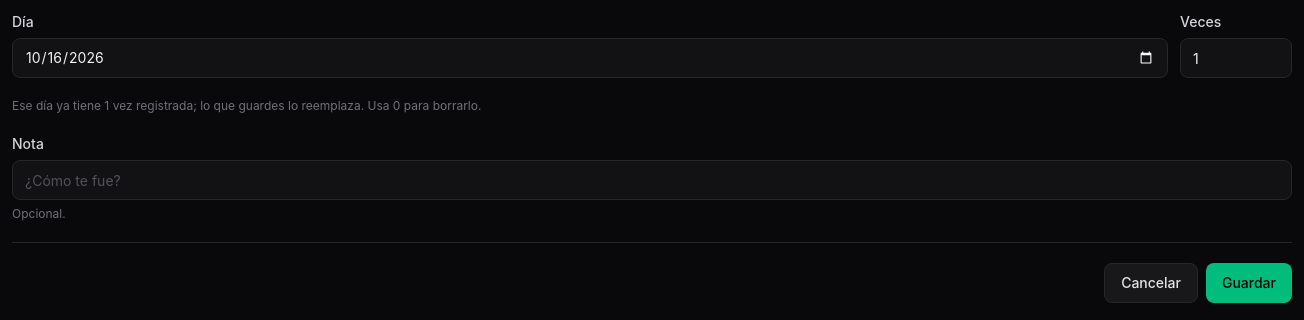
Scenario: LogForm › al elegir otro día precarga su cantidad y nota
Type "2026-10-14" into the date field labelled "Día" at (590, 58), box [12, 38, 1168, 78]
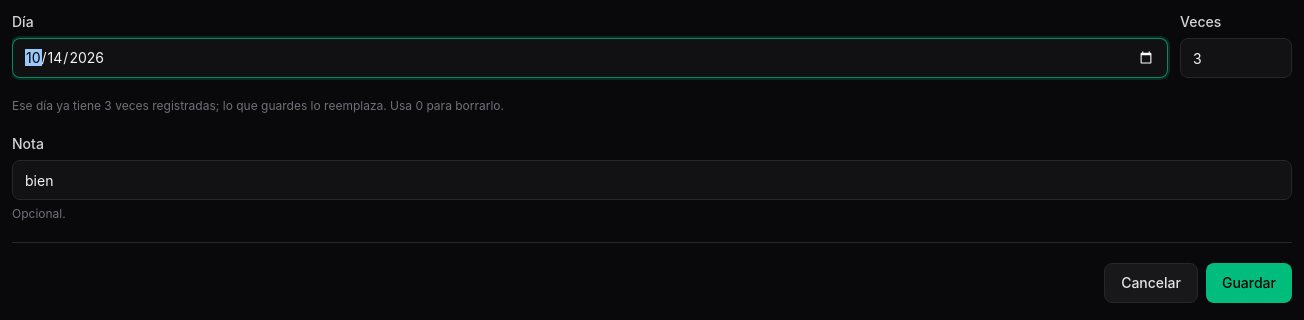
expect the field labelled "Veces" holds "3": met, box [1180, 38, 1292, 78]
expect the field labelled "Nota" holds "bien": met, box [12, 160, 1292, 200]
